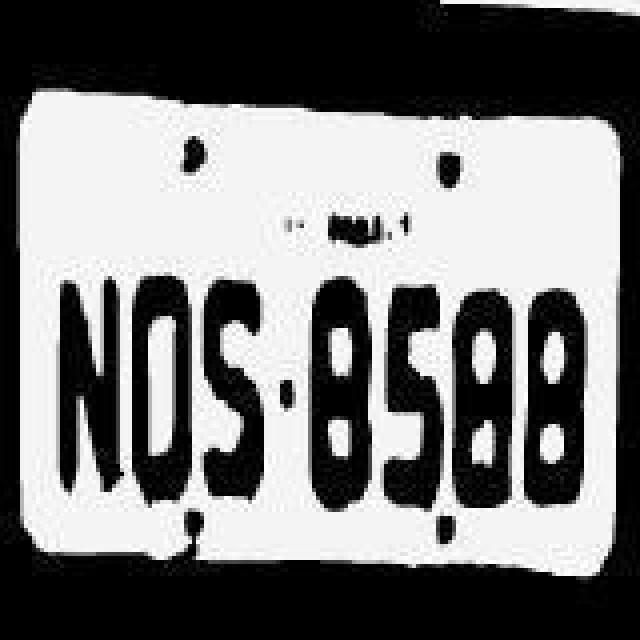5: (376, 276, 448, 516)
8: (294, 270, 378, 530), (518, 280, 594, 528), (444, 278, 516, 514)
N: (48, 262, 128, 498)
O: (124, 258, 196, 502)
S: (200, 258, 280, 510)
